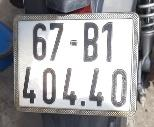0: (109, 66, 130, 110), (40, 65, 59, 106)
1: (99, 17, 114, 65)
4: (89, 65, 105, 110), (60, 63, 76, 105), (21, 64, 36, 105)
6: (29, 22, 49, 62)
7: (47, 19, 65, 65)
B: (82, 20, 99, 63)
